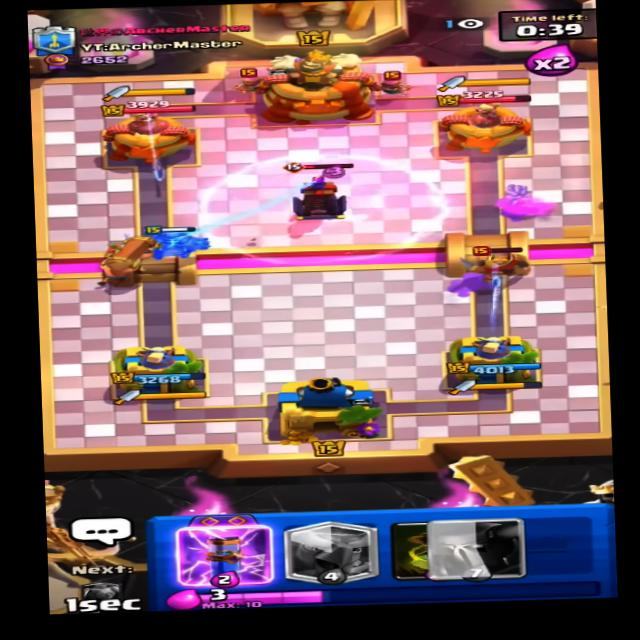archer: (226, 67, 265, 94), (375, 73, 413, 97)
evo-tesla: (277, 158, 365, 223)
knight: (463, 234, 538, 277)
